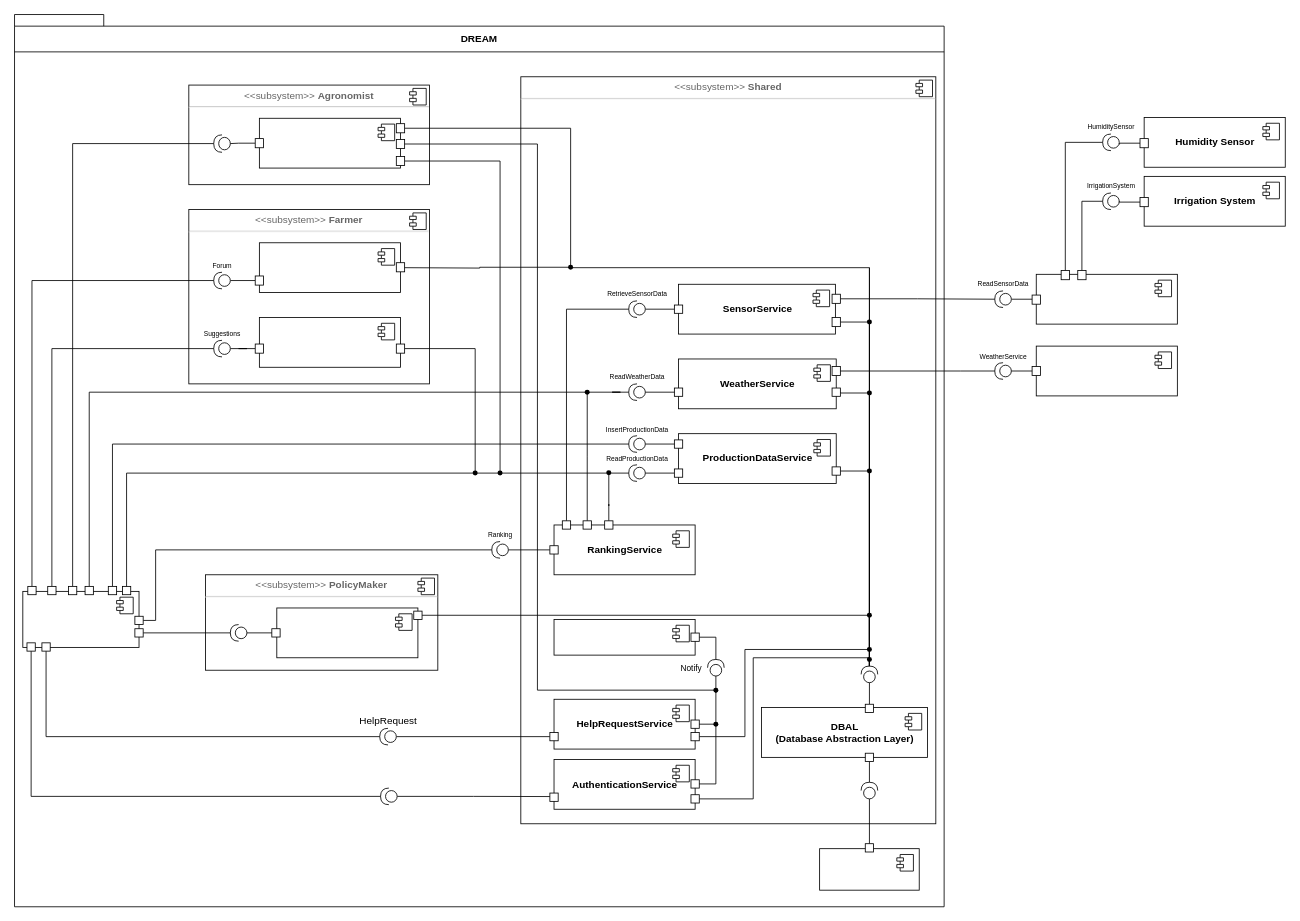
The diagram is 1300 pixels wide and 921 high, and some of its shapes have lost their labels. Each missing label, with the centre of its shape:
"Analytics" belongs at pixel 238 632.
"AnalyticsService" belongs at pixel 347 632.
"Authentication" belongs at pixel 388 796.
"DailyPlan" belongs at pixel 221 143.
"DailyPlanService" belongs at pixel 329 142.
"Database" belongs at pixel 869 674.
"DBMS" belongs at pixel 869 869.
"External Weather Service (TSDPS)" belongs at pixel 1106 370.
"ForumService" belongs at pixel 329 267.
"NotificationService" belongs at pixel 624 637.
"Sensor Hub" belongs at pixel 1106 298.
"SuggestionService" belongs at pixel 329 342.
"Webapp" belongs at pixel 80 619.
